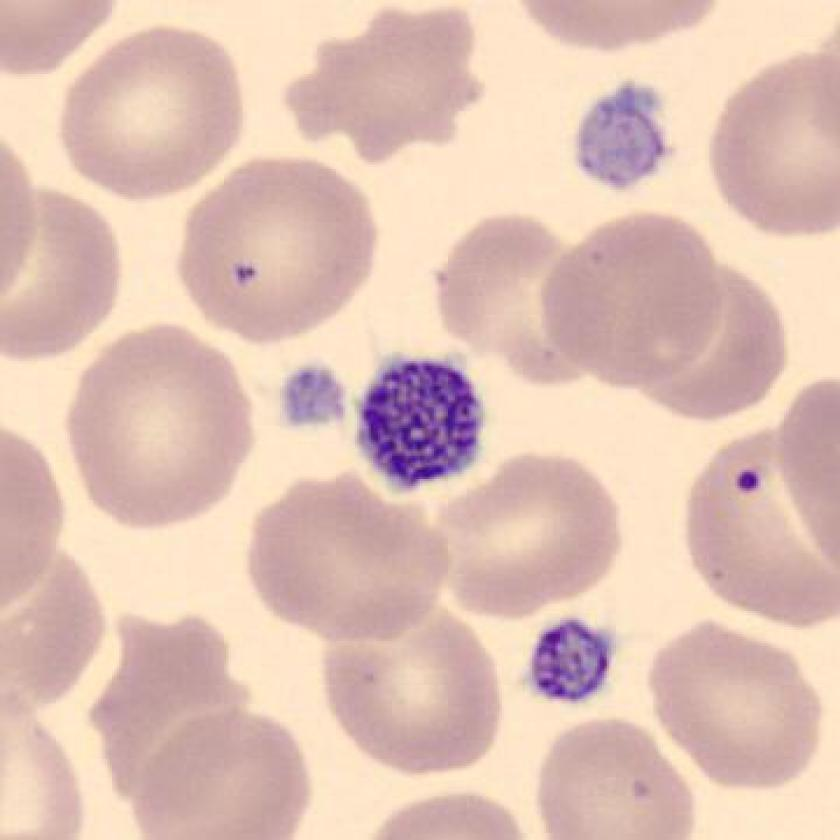platelets: (346, 346, 491, 501), (564, 75, 683, 207), (519, 607, 622, 714)
